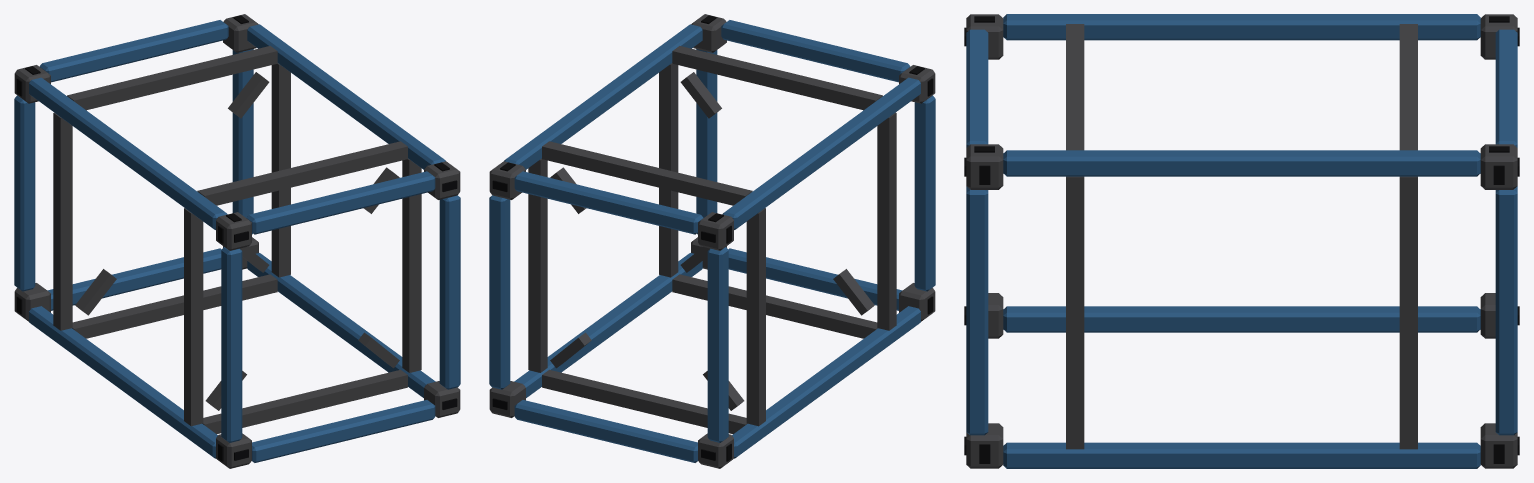
Rendered from jcharge_frame.obj.
3 views of the same model, side by side, from view 1: azimuth 30°, elevation 25°; view 2: azimuth 150°, elevation 25°; view 3: azimuth 270°, elevation 25° (orthographic). The views are drawn at different scales.
Parts seen in each view (by area): view 1: jcharge_frame; view 2: jcharge_frame; view 3: jcharge_frame.
Part boxes in pixels (x1,y1,x2,y2): jcharge_frame: [14, 14, 460, 468]; jcharge_frame: [489, 14, 935, 468]; jcharge_frame: [964, 14, 1519, 468].
Size of the model in its own units: 0.94 by 0.94 by 1.5.
